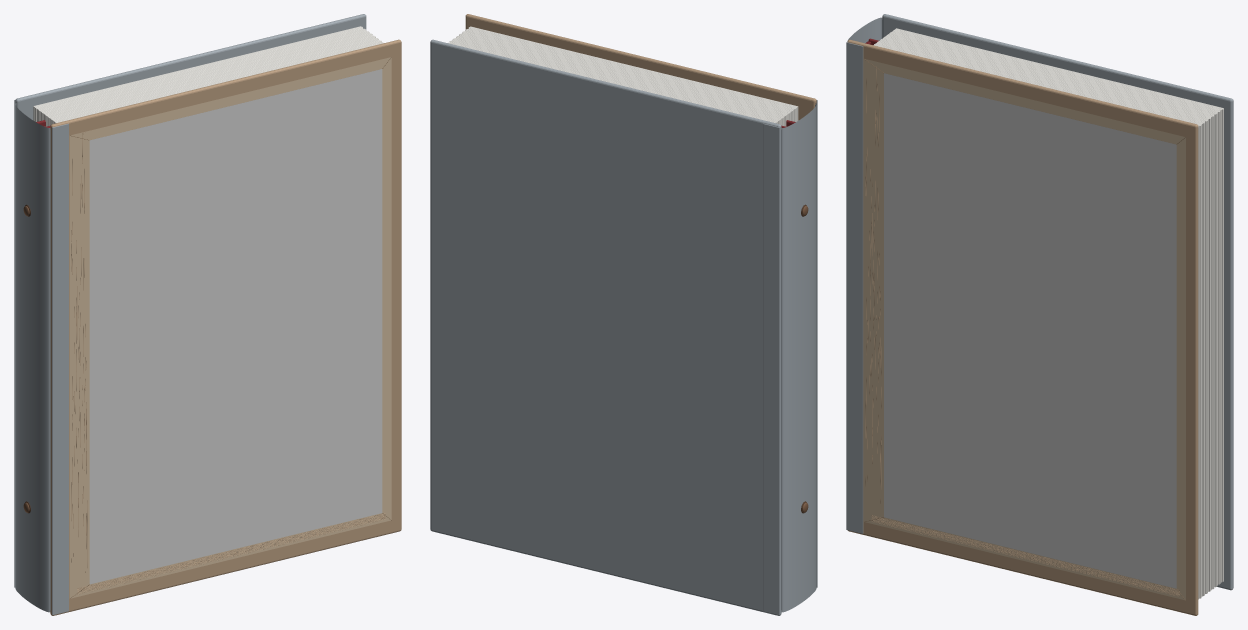
The model's file is school-keepsakes.glb.
3 views of the same model, side by side, from view 1: azimuth 30°, elevation 25°; view 2: azimuth 150°, elevation 25°; view 3: azimuth 330°, elevation 25° (orthographic).
Parts seen in each view (by area): view 1: ClassBookCoverPrint, ClassBookRoot classbook woven blue grey cloth, ClassBookCoverHinge classbook thin beige edge print, ClassBookCoverHinge classbook printed light wood border, ClassBookCoverHinge classbook woven blue grey cloth, ClassBookPaperBlock; view 2: ClassBookRoot classbook woven blue grey cloth, ClassBookPaperBlock, ClassBookCoverHinge classbook printed light wood border, ClassBookCoverHinge classbook woven blue grey cloth; view 3: ClassBookCoverPrint, ClassBookCoverHinge classbook printed light wood border, ClassBookPaperBlock, ClassBookCoverHinge classbook thin beige edge print, ClassBookRoot classbook woven blue grey cloth, ClassBookCoverHinge classbook woven blue grey cloth.
Part boxes in pixels (box(x1,y1,x2,y2)): ClassBookCoverPrint: box(89, 69, 382, 584); ClassBookRoot classbook woven blue grey cloth: box(14, 14, 366, 612); ClassBookCoverHinge classbook thin beige edge print: box(69, 57, 391, 598); ClassBookCoverHinge classbook printed light wood border: box(50, 39, 401, 615); ClassBookCoverHinge classbook woven blue grey cloth: box(52, 123, 68, 615); ClassBookPaperBlock: box(33, 26, 383, 126); ClassBookRoot classbook woven blue grey cloth: box(430, 39, 816, 615); ClassBookPaperBlock: box(448, 26, 798, 126); ClassBookCoverHinge classbook printed light wood border: box(465, 14, 816, 120); ClassBookCoverHinge classbook woven blue grey cloth: box(816, 100, 817, 587); ClassBookCoverPrint: box(884, 73, 1176, 588); ClassBookCoverHinge classbook printed light wood border: box(847, 39, 1198, 615); ClassBookPaperBlock: box(873, 28, 1223, 599); ClassBookCoverHinge classbook thin beige edge print: box(864, 59, 1185, 600); ClassBookRoot classbook woven blue grey cloth: box(848, 14, 1233, 590); ClassBookCoverHinge classbook woven blue grey cloth: box(846, 42, 863, 533).
Bounding box in the file's own units: 0.4298 × 0.563 × 0.0791.
